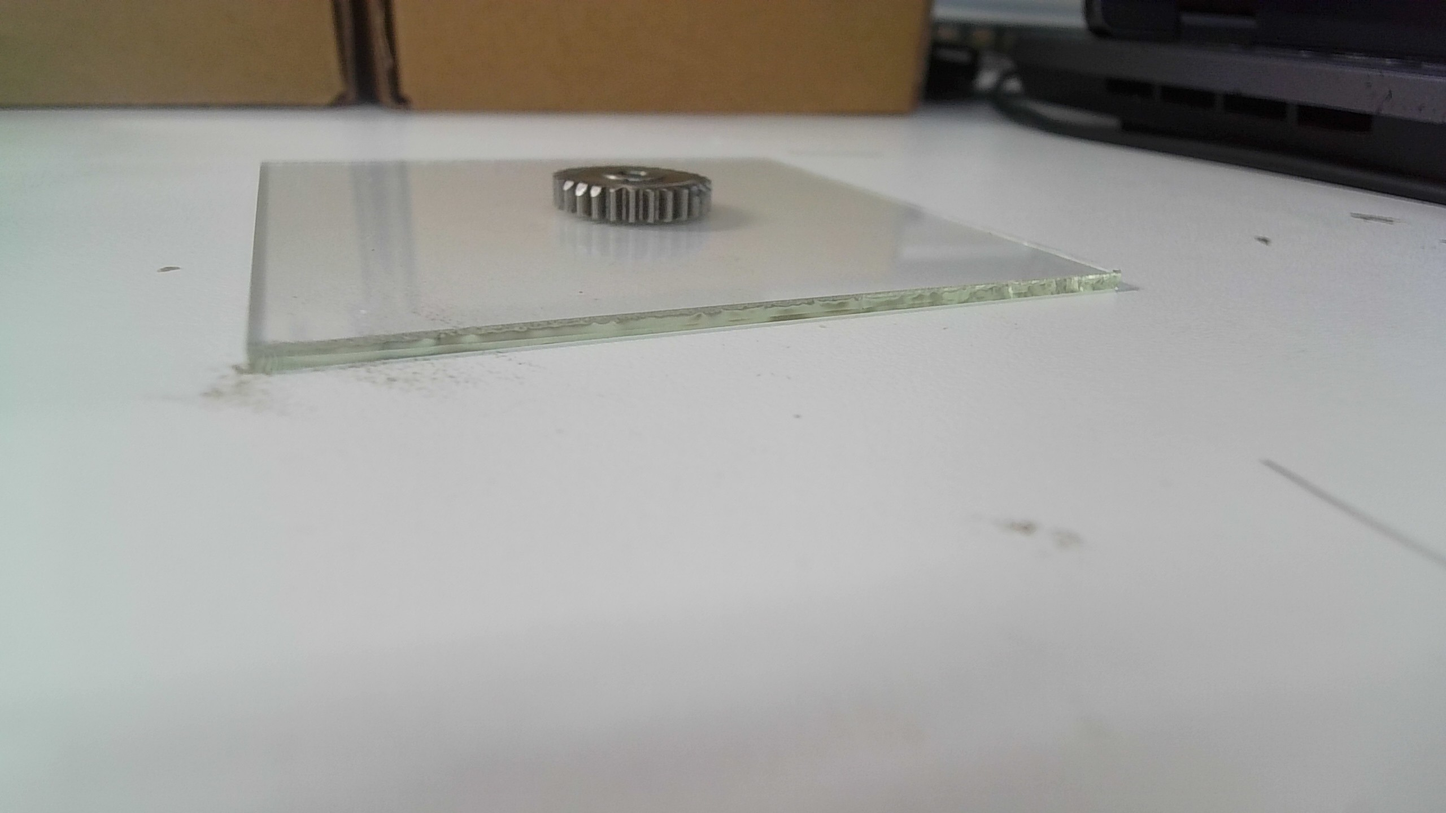gear: (548, 159, 720, 238)
